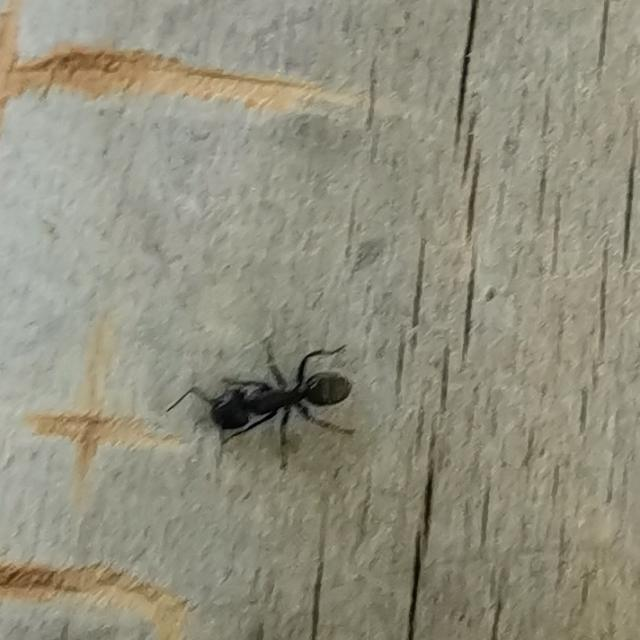Camponotus: (172, 320, 358, 480)
